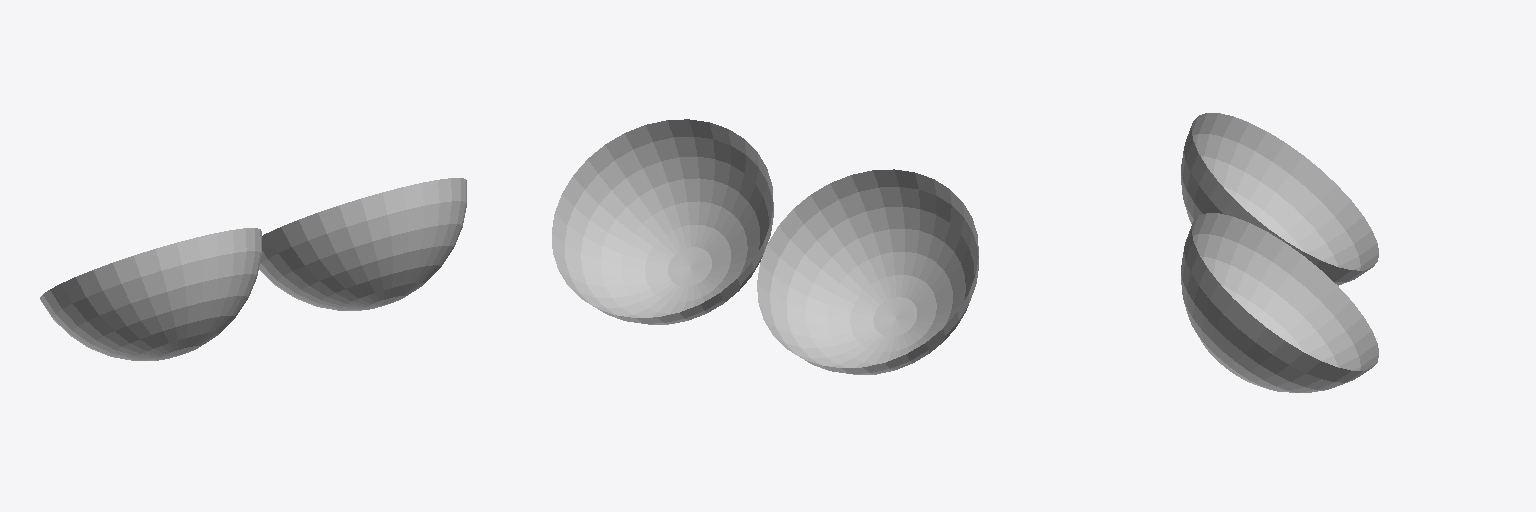
Rendered from eyelidClosed.obj.
3 views of the same model, side by side, from view 1: azimuth 30°, elevation 25°; view 2: azimuth 150°, elevation 25°; view 3: azimuth 270°, elevation 25° (orthographic).
Visible parts, largest first — view 1: eyelid_Sphere.004; view 2: eyelid_Sphere.004; view 3: eyelid_Sphere.004.
Boxes of the visible parts, box(x1,y1,x2,y2) form: eyelid_Sphere.004: box(40, 178, 466, 360); eyelid_Sphere.004: box(552, 119, 978, 374); eyelid_Sphere.004: box(1181, 113, 1378, 392).
Bounding box in the file's own units: 0.7923 × 0.2838 × 0.3354.